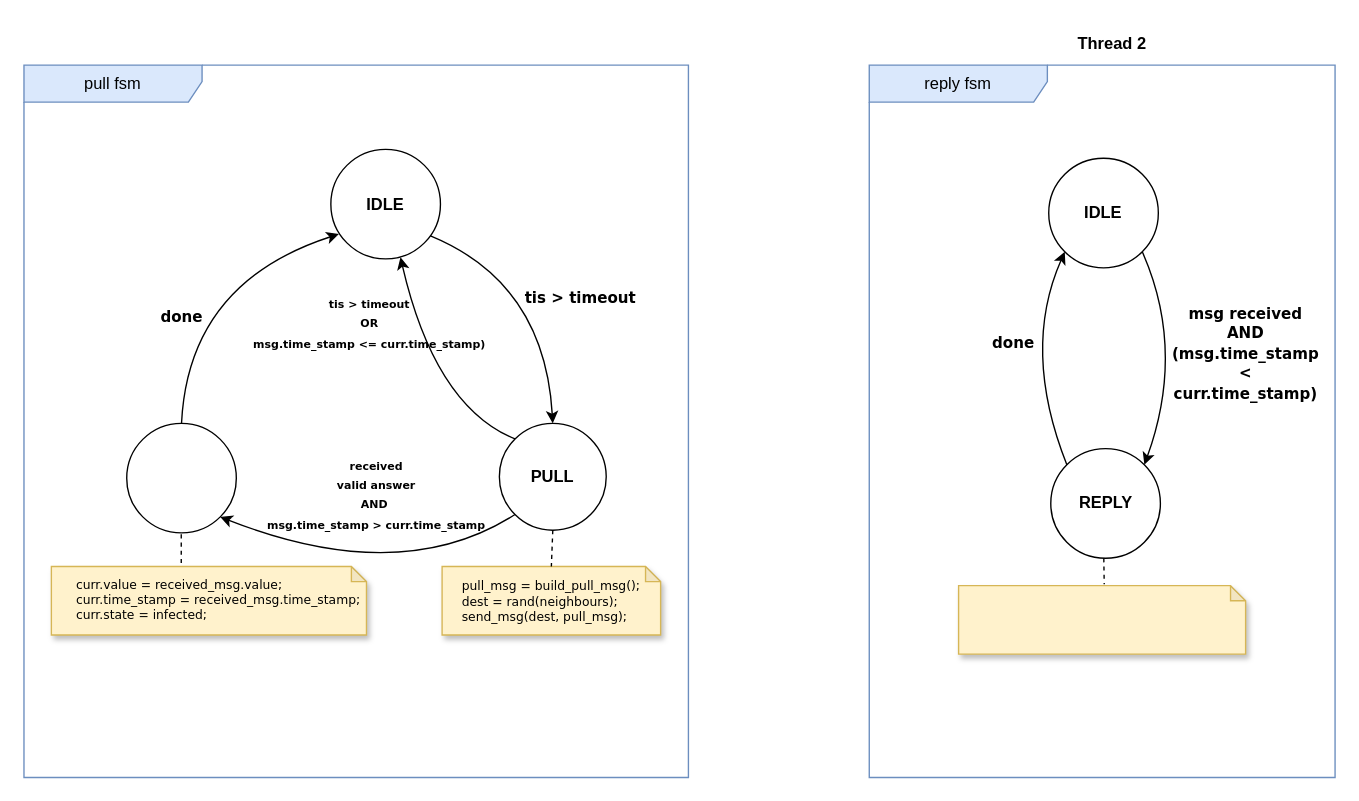
The diagram is 1359 pixels wide and 801 high, and some of its shapes have lost their labels. Here are the shapes that lost their labels. From the top down, the centre of each, then its label:
the point at 180,477: UPDATE
the point at 1103,621: msg = build_data_msg(current.subject); send_msg(received_req.sender, msg);
